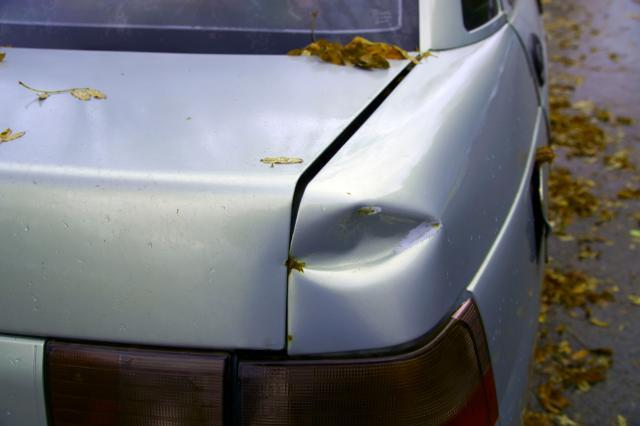dent: (292, 204, 441, 273)
